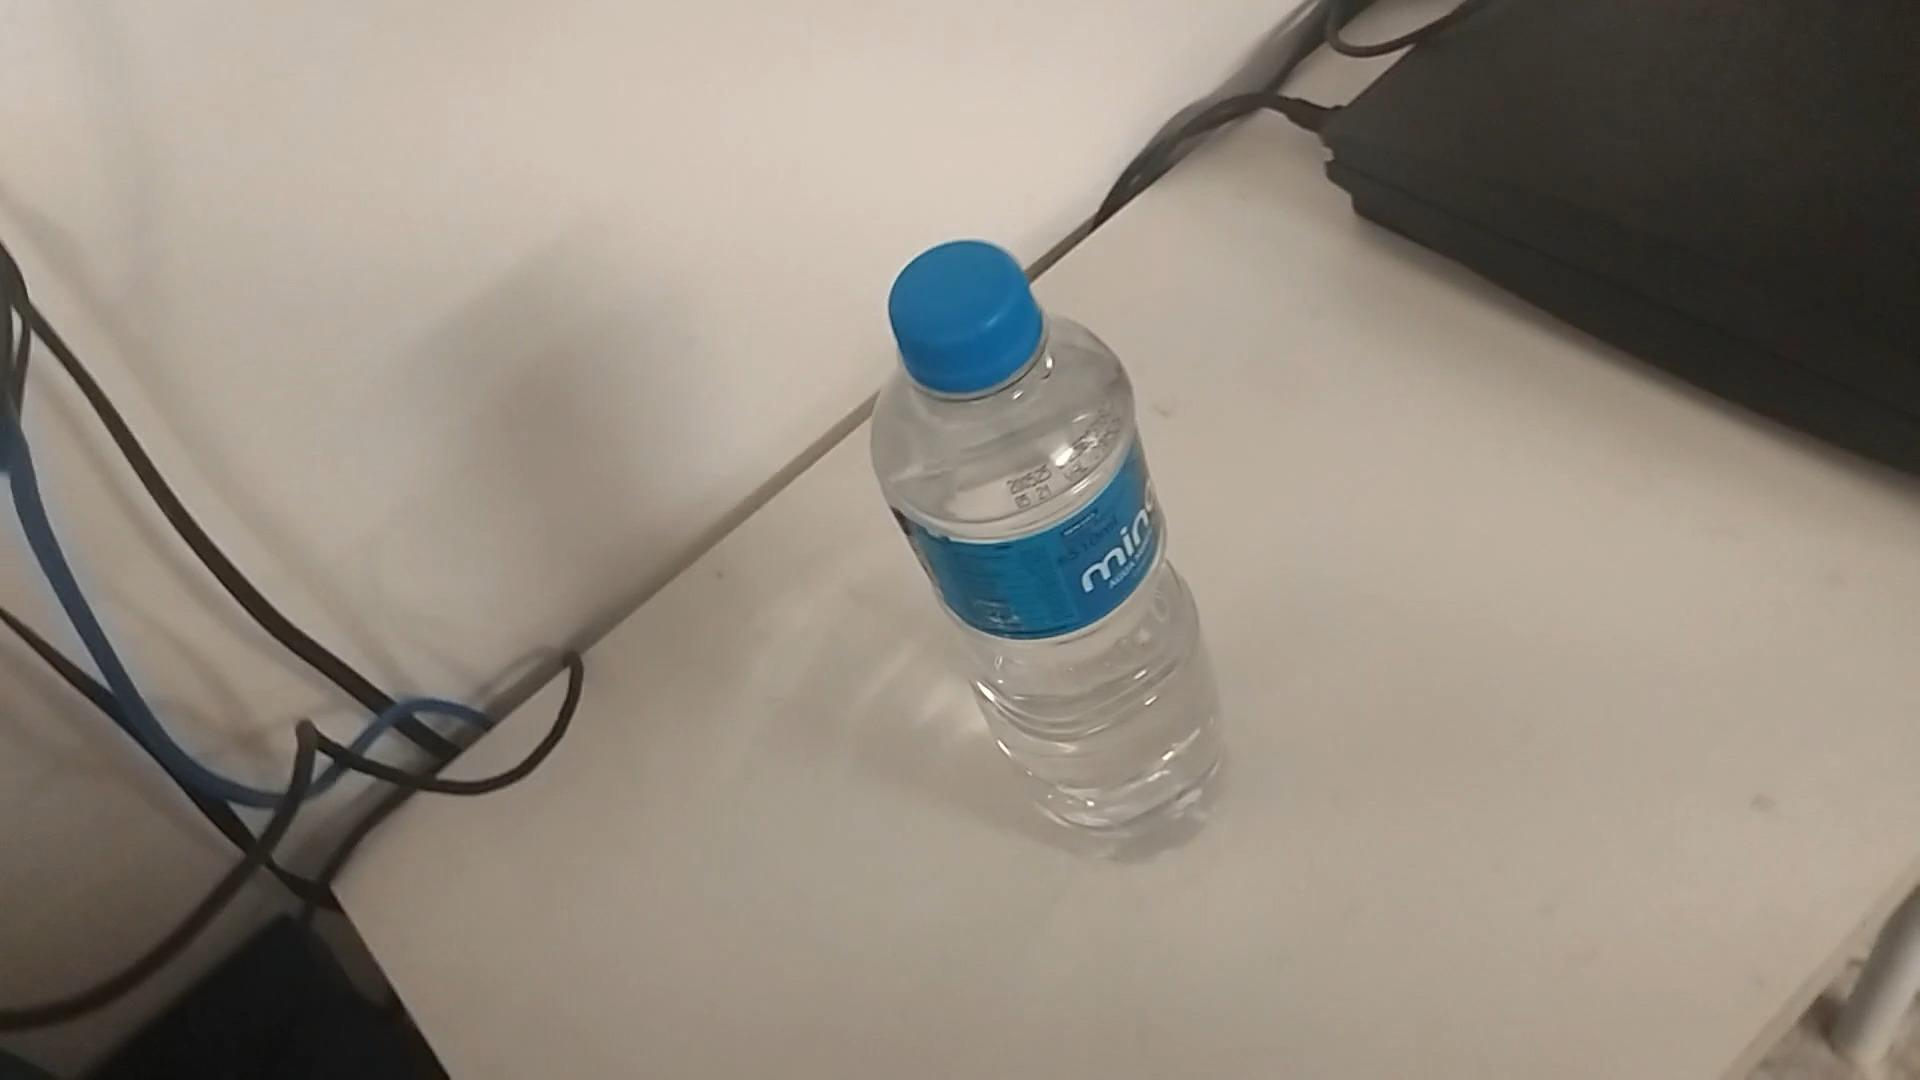agua: (873, 239, 1213, 844)
